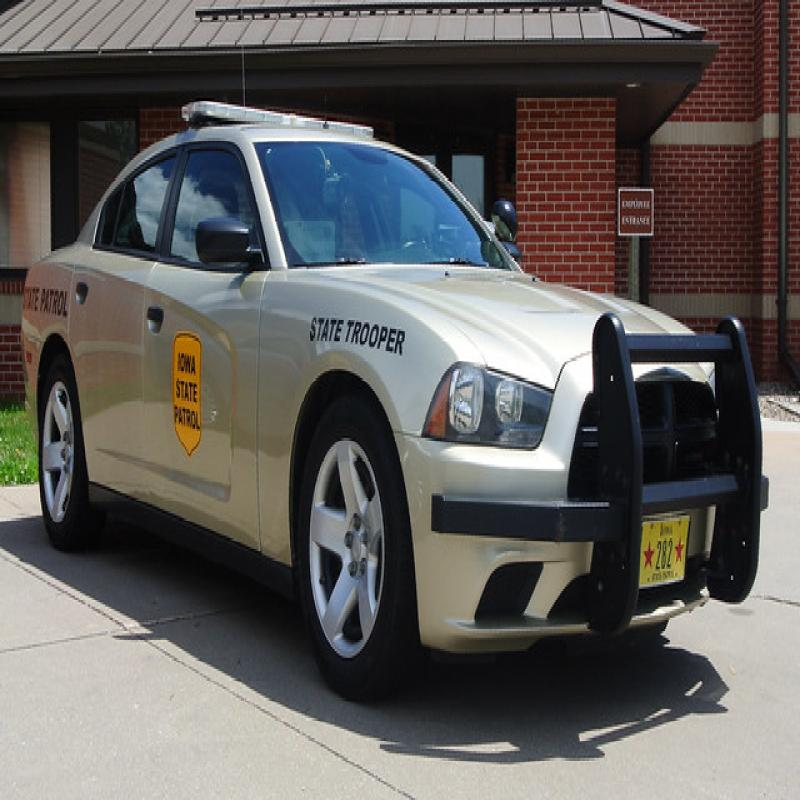AmbulanceSiren: (192, 92, 372, 150)
